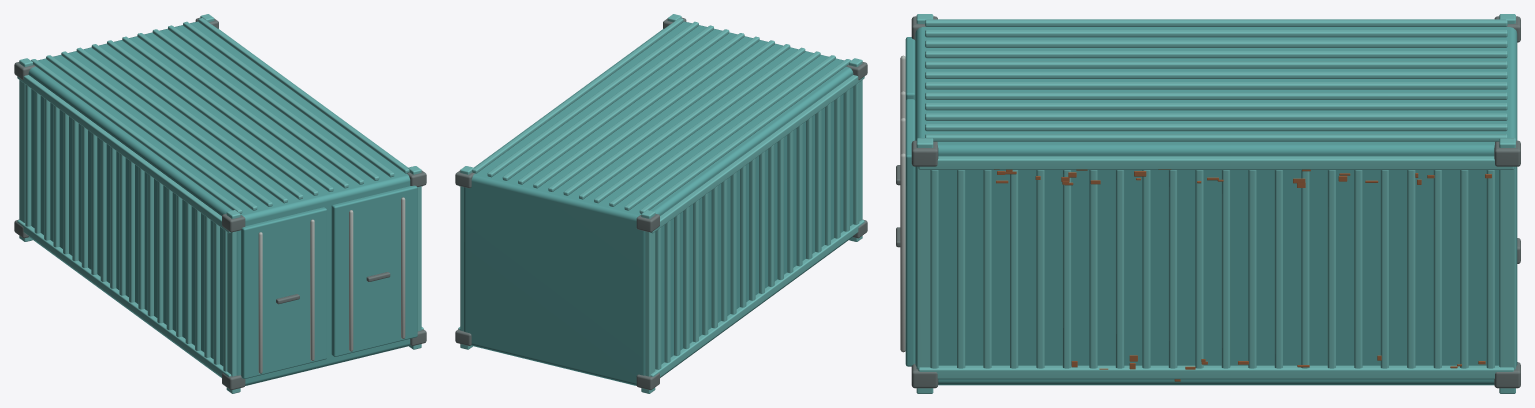
File: container.glb
The picture shows the model from 3 angles, left to right: view 1: azimuth 30°, elevation 25°; view 2: azimuth 150°, elevation 25°; view 3: azimuth 270°, elevation 25°; orthographic projection. The views are drawn at different scales.
Visible parts, largest first — view 1: container_Sea green, container_Raised ribs, container_Brushed steel, container_Gunmetal; view 2: container_Sea green, container_Raised ribs, container_Gunmetal; view 3: container_Raised ribs, container_Sea green, container_Gunmetal, container_Brushed steel, container_Rust.
Part boxes in pixels (x1,y1,x2,y2): container_Sea green: (28, 21, 417, 385); container_Raised ribs: (17, 14, 423, 393); container_Brushed steel: (258, 197, 405, 373); container_Gunmetal: (14, 17, 426, 390); container_Sea green: (464, 21, 853, 385); container_Raised ribs: (458, 14, 864, 393); container_Gunmetal: (455, 17, 867, 390); container_Raised ribs: (916, 14, 1515, 393); container_Sea green: (905, 27, 1517, 385); container_Gunmetal: (896, 16, 1520, 388); container_Brushed steel: (900, 55, 905, 352); container_Rust: (994, 169, 1491, 381).
Size of the model in its own units: 2.65 by 2.3 by 5.19.
